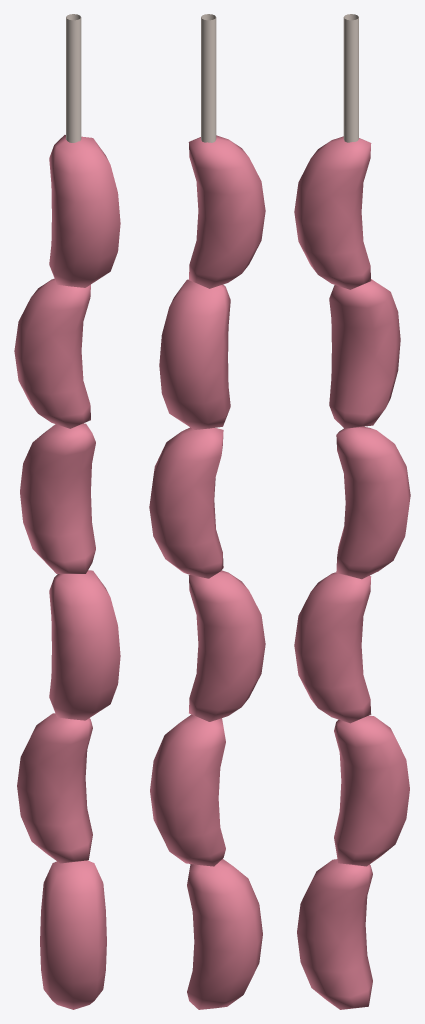
File: Sausages_1.glb
The picture shows the model from 3 angles, left to right: view 1: azimuth 90°, elevation 25°; view 2: azimuth 150°, elevation 25°; view 3: azimuth 330°, elevation 25°; orthographic projection.
Visible parts, largest first — view 1: Sausages_1; view 2: Sausages_1; view 3: Sausages_1.
Part boxes in pixels (x1,y1,x2,y2): Sausages_1: (14, 14, 120, 1009); Sausages_1: (149, 14, 265, 1009); Sausages_1: (294, 14, 410, 1009).
Size of the model in its own units: 0.1459 by 1.41 by 0.1375.
1 material, 1 textured.
